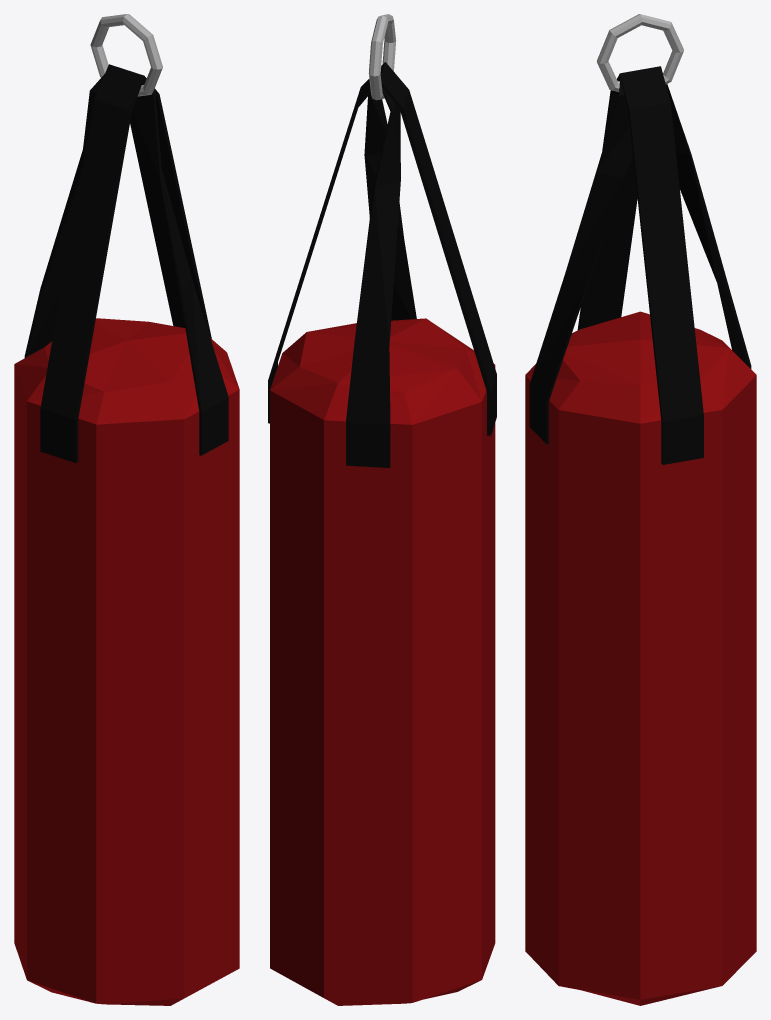
Rendered from punching bag.obj.
The picture shows the model from 3 angles, left to right: view 1: azimuth 30°, elevation 25°; view 2: azimuth 150°, elevation 25°; view 3: azimuth 270°, elevation 25°; orthographic projection.
Size of the model in its own units: 1.03 by 4.74 by 1.03.
